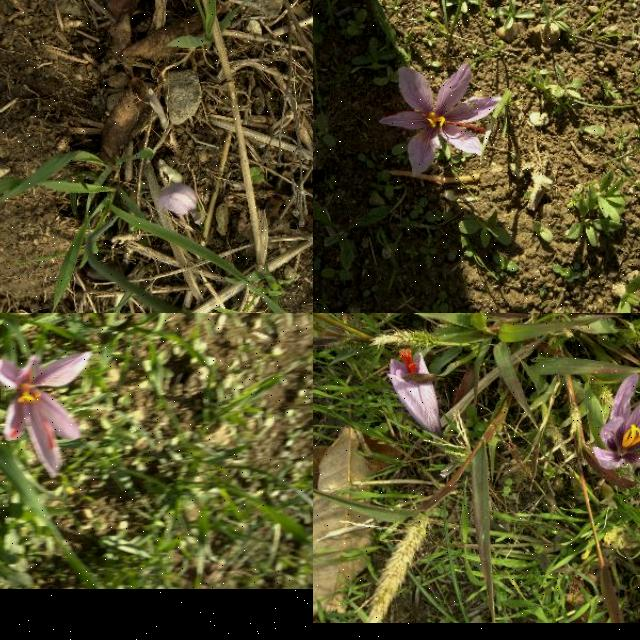flower: (378, 64, 502, 178), (0, 352, 94, 478), (388, 348, 444, 439), (594, 373, 640, 470)
